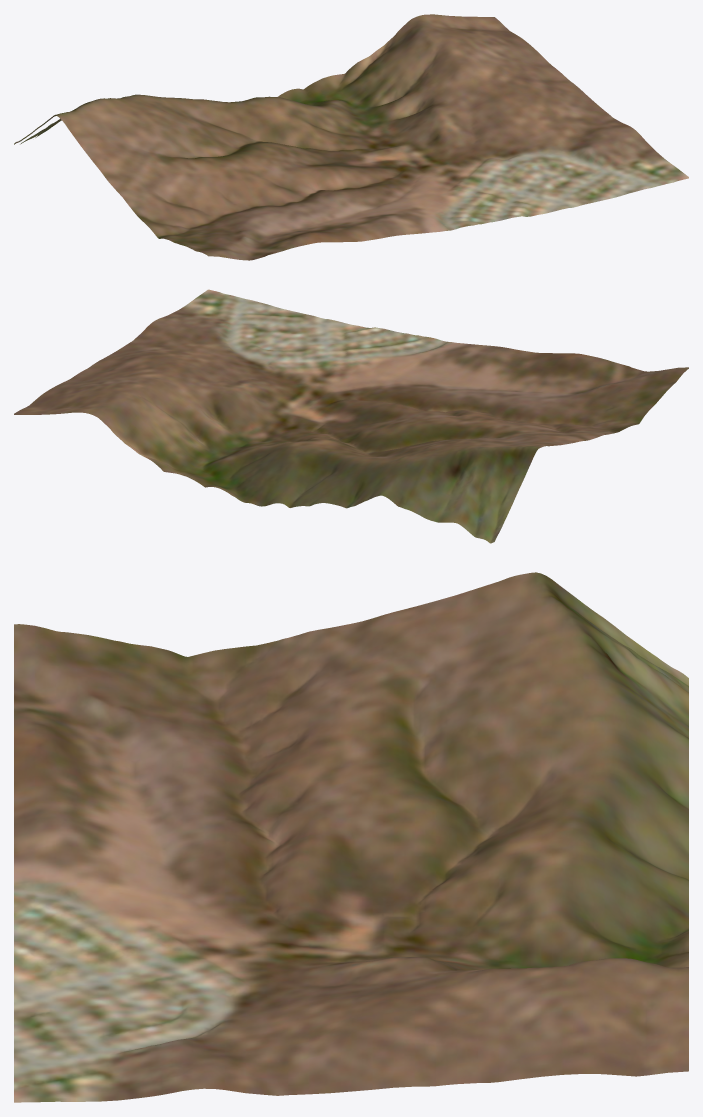
Rendered from terrain_r0_c4.glb.
3 views of the same model, one above another, from view 1: azimuth 30°, elevation 25°; view 2: azimuth 150°, elevation 25°; view 3: azimuth 270°, elevation 25° (orthographic). The views are drawn at different scales.
Visible parts, largest first — view 1: terrain_r0_c4_lod0; view 2: terrain_r0_c4_lod0; view 3: terrain_r0_c4_lod0.
Part boxes in pixels (box(x1,y1,x2,y2)): terrain_r0_c4_lod0: box(14, 14, 688, 260); terrain_r0_c4_lod0: box(14, 289, 688, 543); terrain_r0_c4_lod0: box(14, 572, 688, 1102).
Size of the model in its own units: 1125 by 188 by 787.
1 material, 1 textured.
